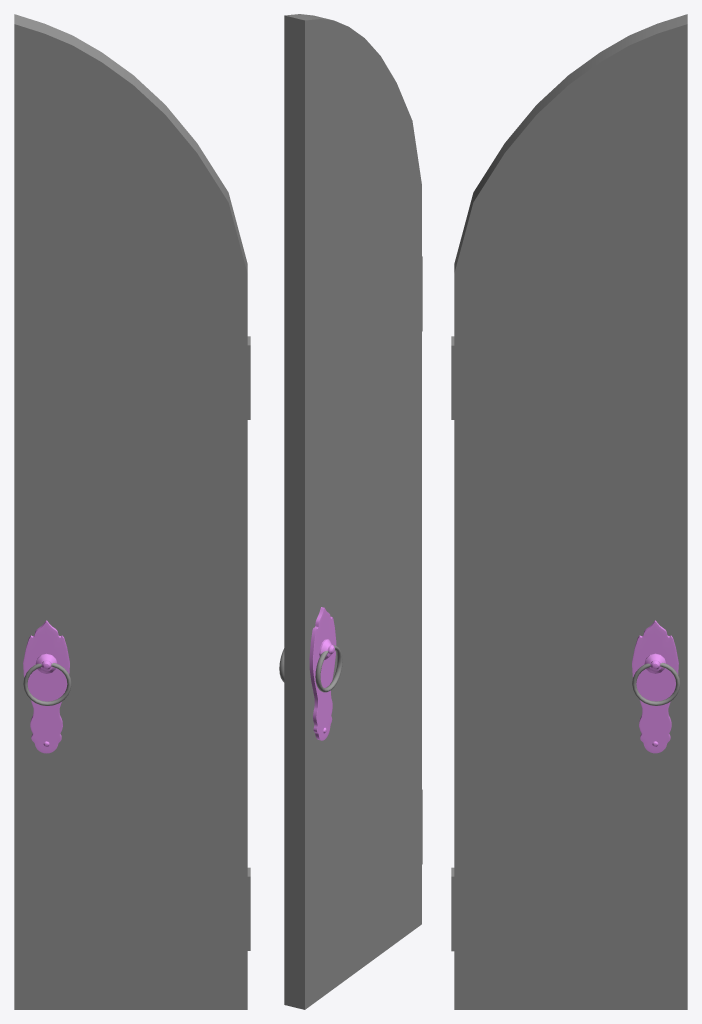
File: SM_CastleEntranceDoor_A_002.FBX
The picture shows the model from 3 angles, left to right: view 1: azimuth 90°, elevation 25°; view 2: azimuth 150°, elevation 25°; view 3: azimuth 270°, elevation 25°; orthographic projection.
Visible parts, largest first — view 1: SM_CastleEntranceDoor_A_002; view 2: SM_CastleEntranceDoor_A_002; view 3: SM_CastleEntranceDoor_A_002.
Boxes of the visible parts, <box> form: SM_CastleEntranceDoor_A_002: <box>14,14,250,1009</box>; SM_CastleEntranceDoor_A_002: <box>279,14,422,1009</box>; SM_CastleEntranceDoor_A_002: <box>451,14,687,1009</box>.
Bounding box in the file's own units: 22.59 × 459 × 99.79.
